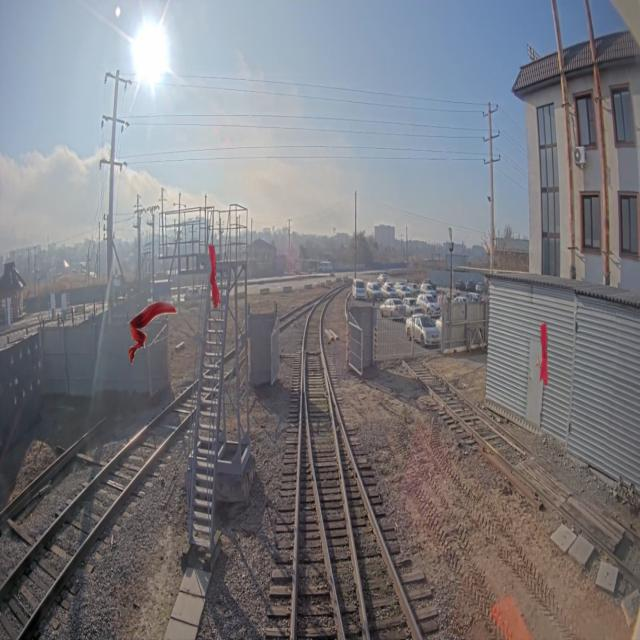floating object: (128, 301, 178, 365), (208, 244, 221, 308), (539, 322, 549, 387)
